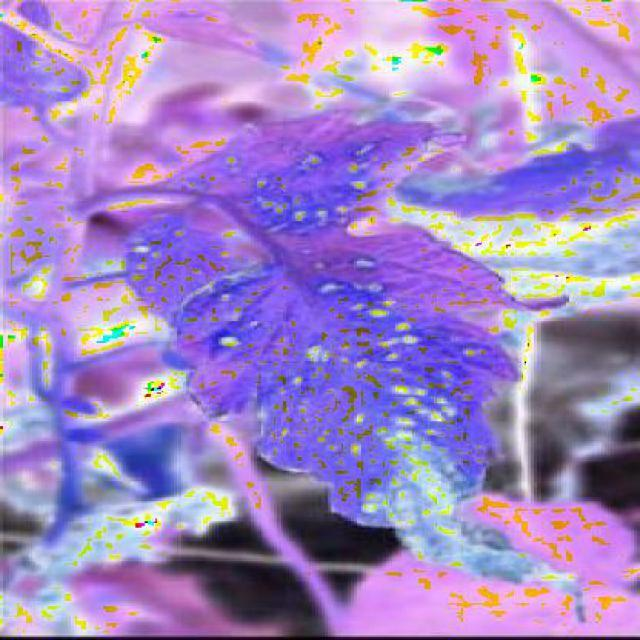Tomato Septoria spot leaf: (136, 123, 590, 588)
